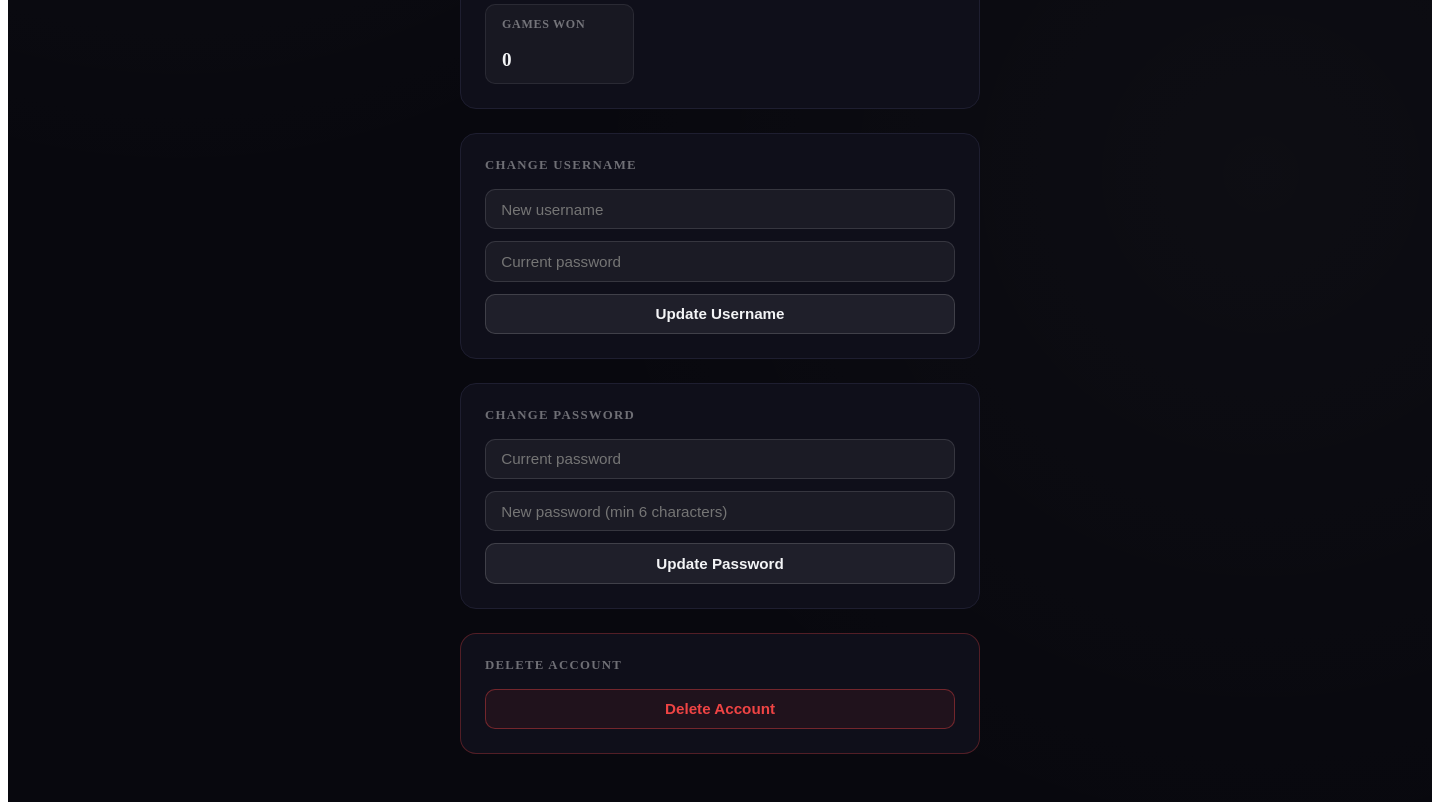
it: ACCOUNT: CHANGE PASSWORD — ProfilePage component › wrong current password → error message shown, no signOut
This screenshot has width=1440, height=810.
(page scrolled)
Type "wrongpass" into the password field with placeholder "Current password" below "Change Password". click: coordinates (720, 459)
box: left=485, top=439, right=955, bottom=479
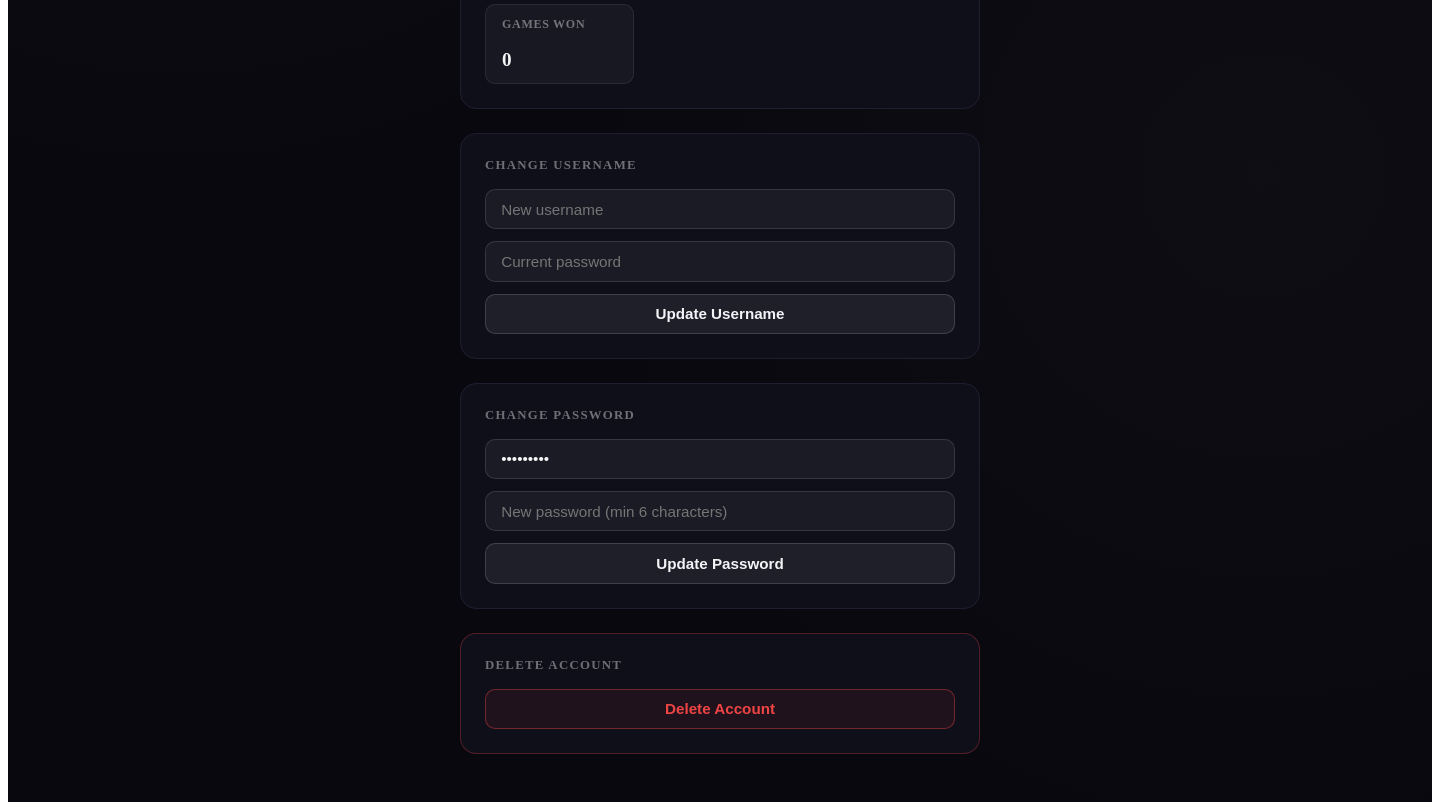
Type "newpassword" into the password field with placeholder "New password (min 6 characters)". click: coordinates (720, 511)
box: left=485, top=491, right=955, bottom=531
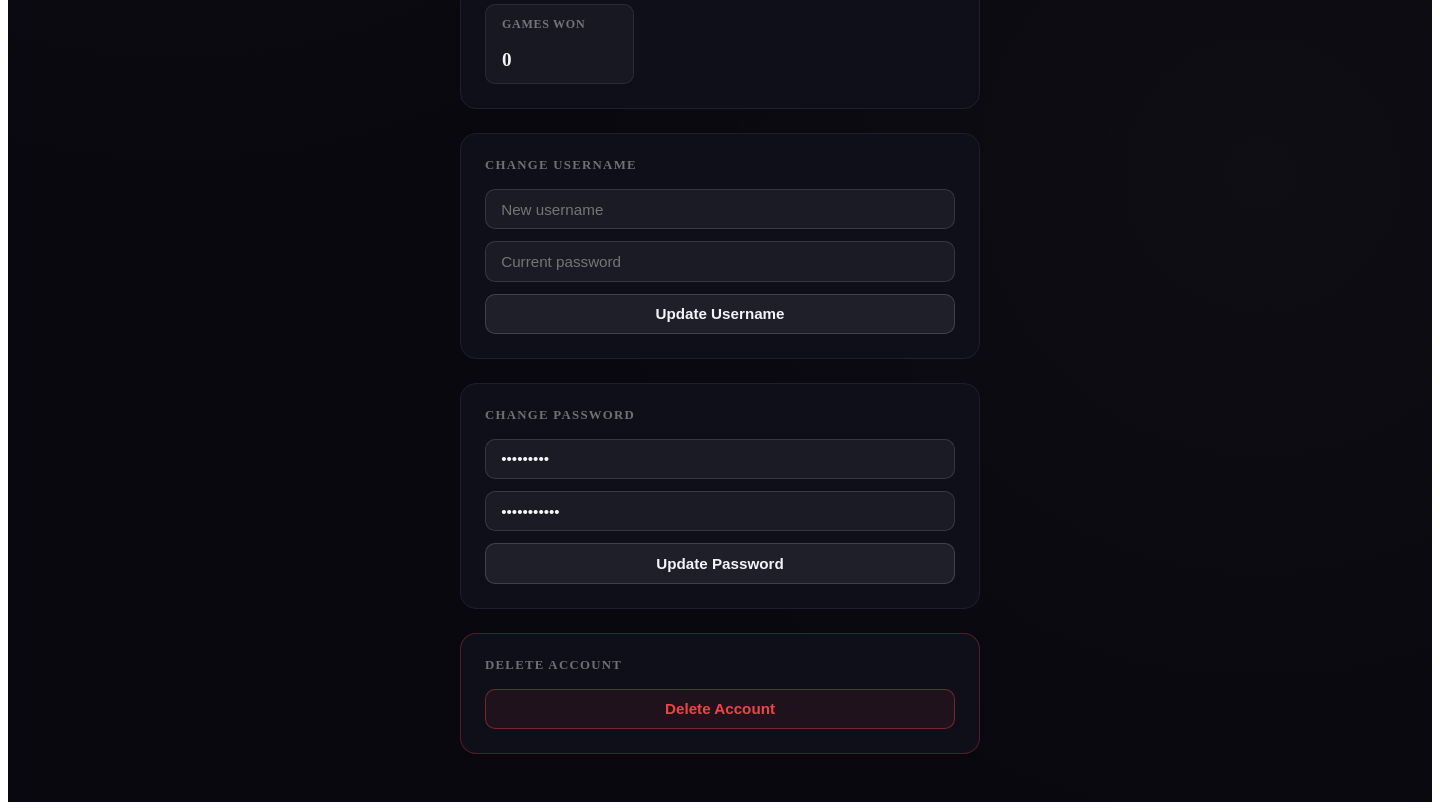
Click the button "Update Password". click: coordinates (720, 563)
box: left=485, top=543, right=955, bottom=584
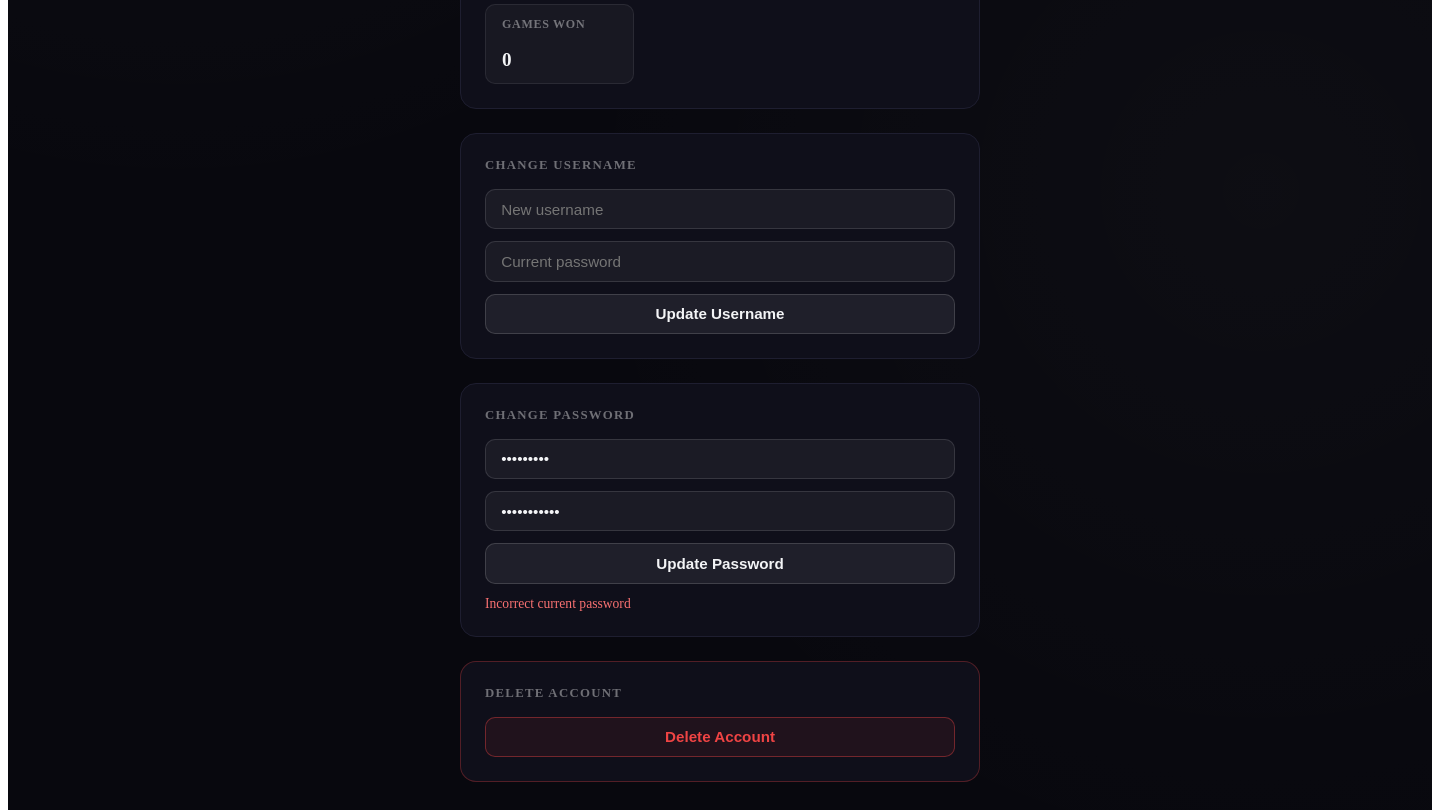
Check: the text "Incorrect current password" is shown, box left=485, top=596, right=631, bottom=610
